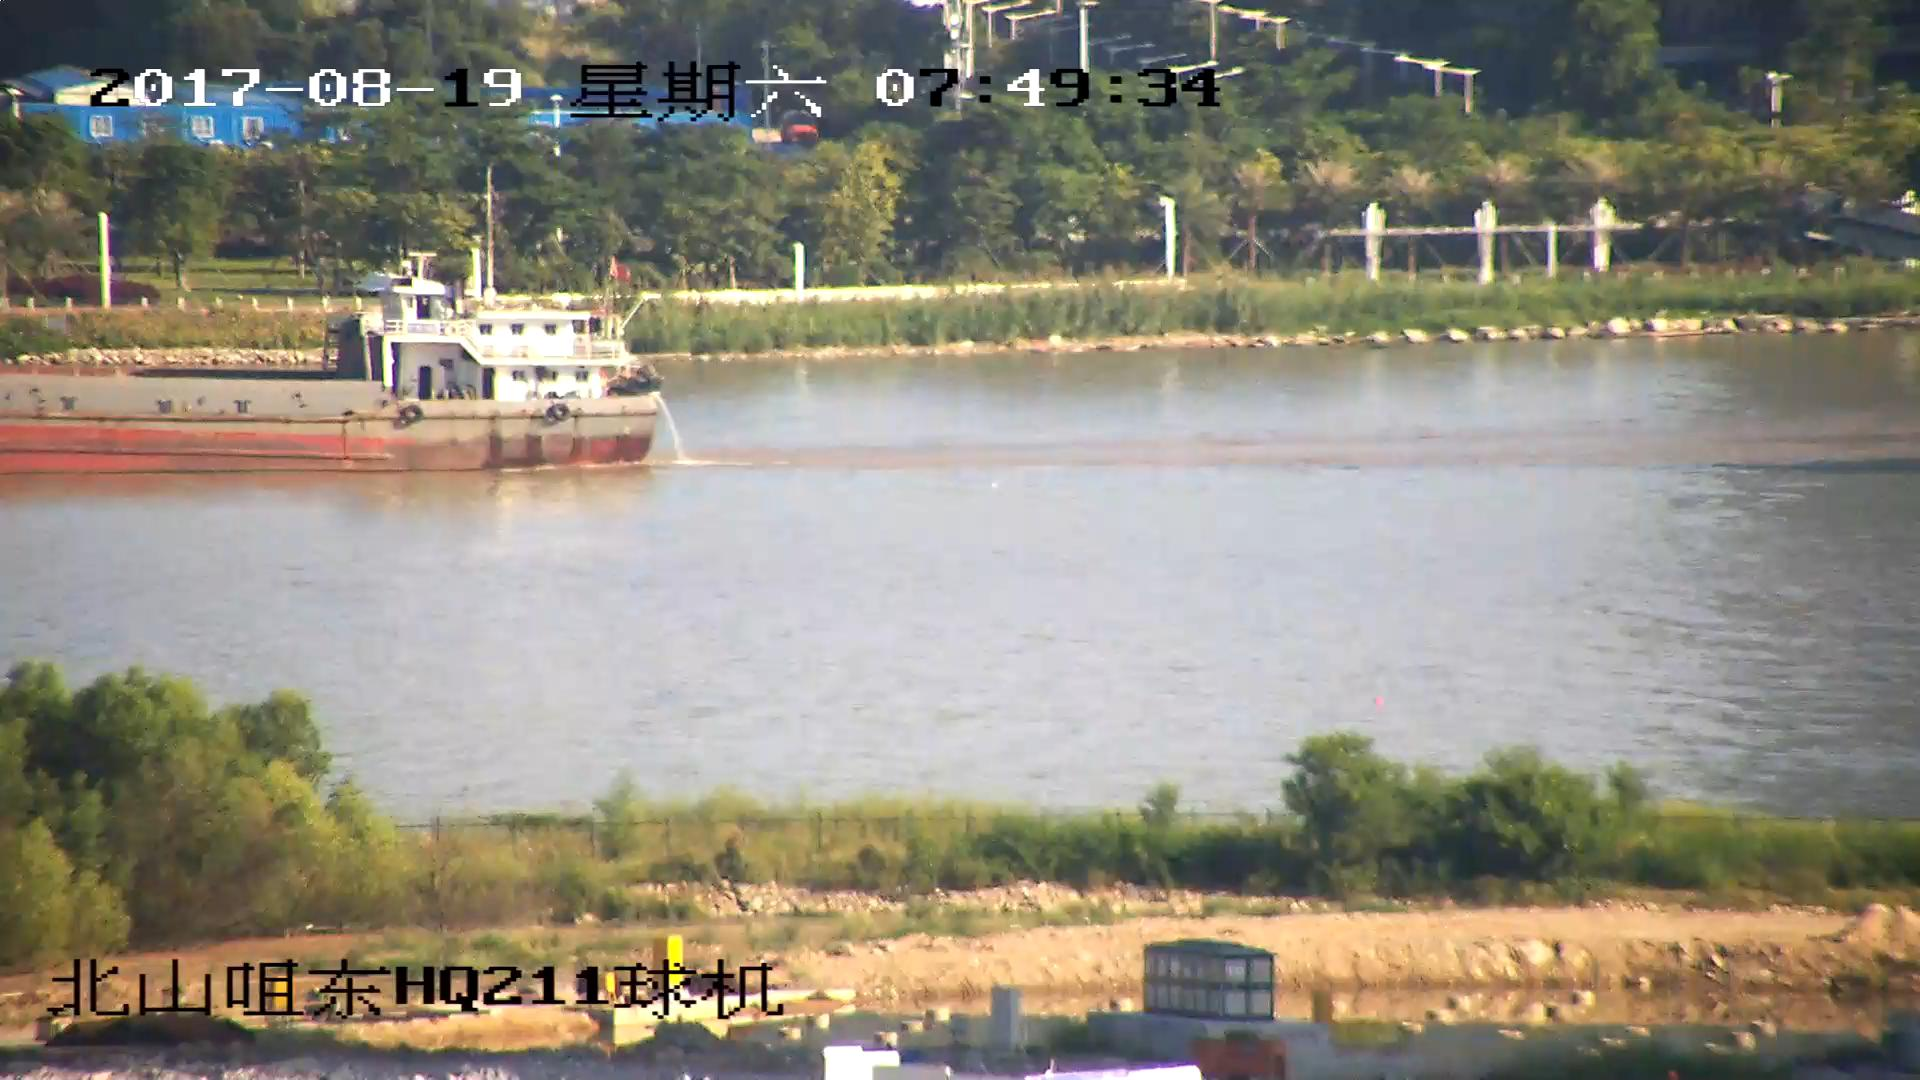bulk cargo carrier: (1, 258, 670, 473)
